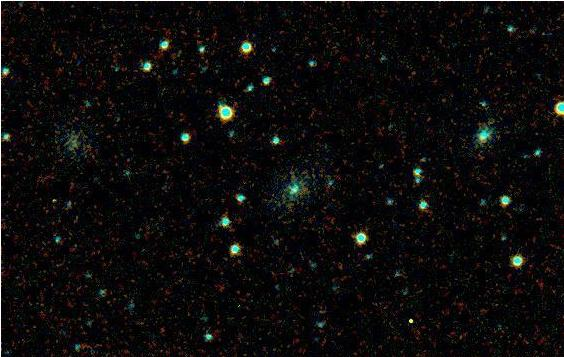star: (395, 306, 425, 336)
